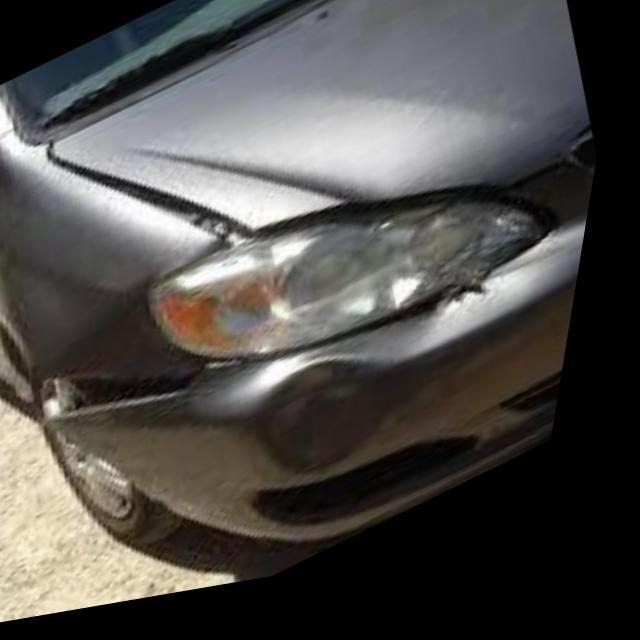dislocated part: (59, 250, 563, 502), (47, 145, 591, 258)
